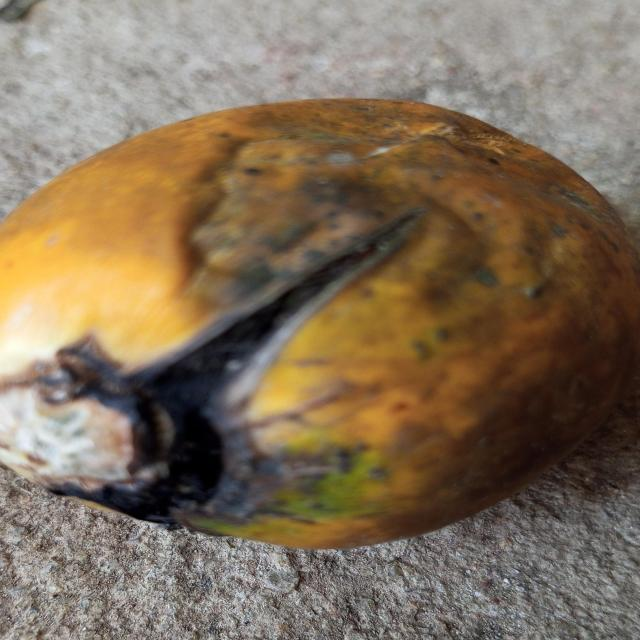damaged: (0, 100, 640, 548)
